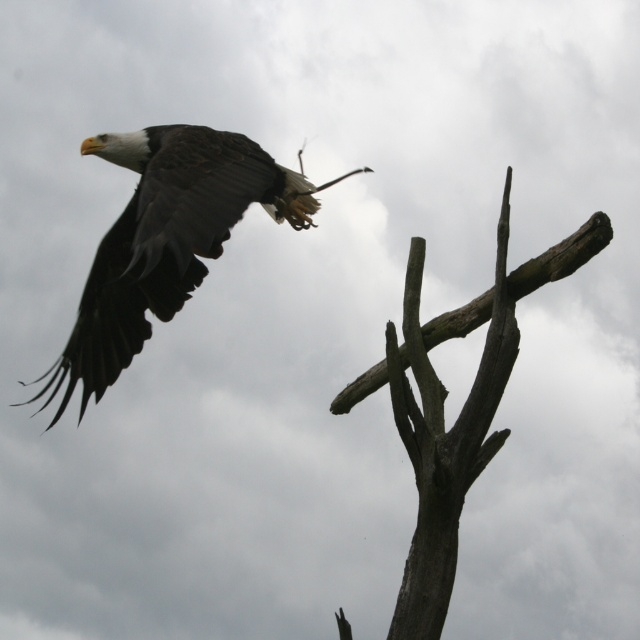Eagle: (7, 123, 321, 439)
